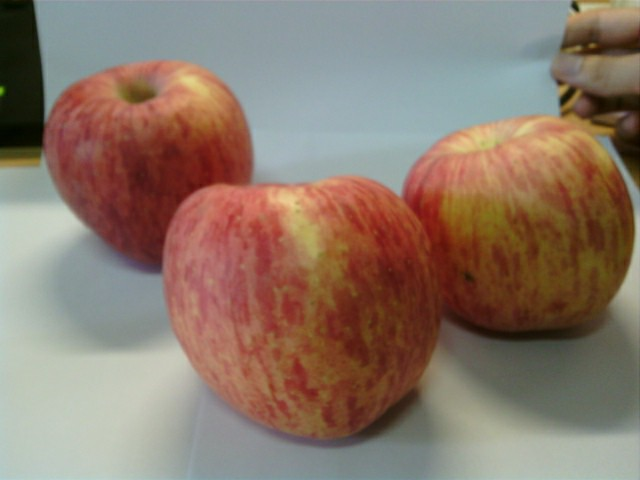normal_apple: (162, 179, 444, 447), (402, 116, 633, 339), (39, 61, 253, 272)
